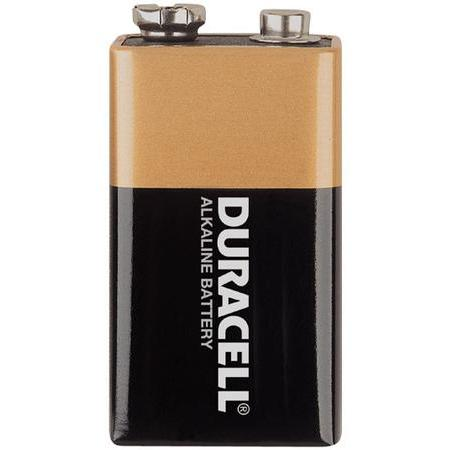9V: (101, 7, 346, 446)
